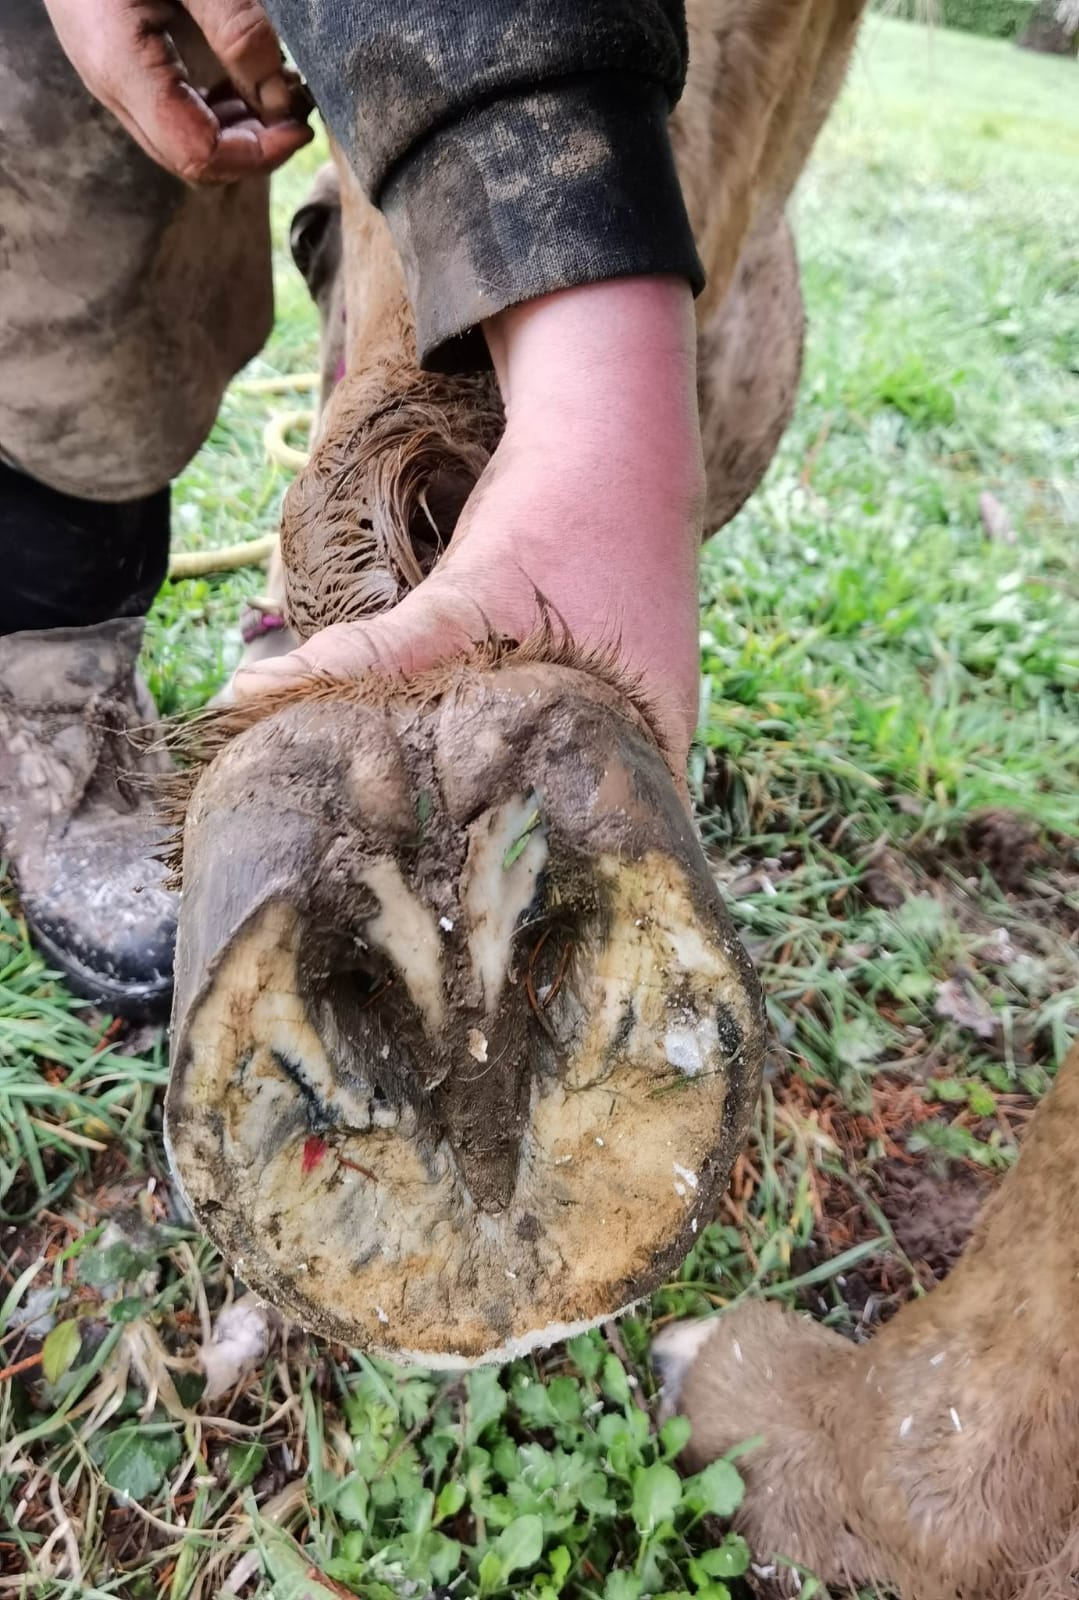horsesole: (163, 820, 770, 1368)
